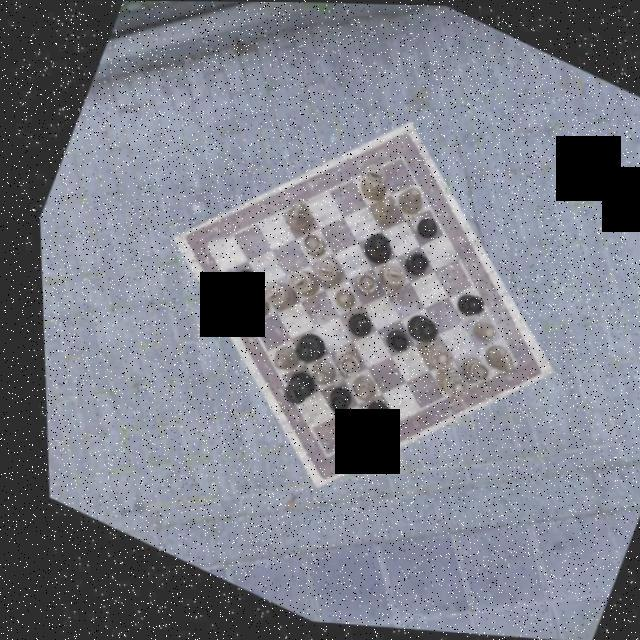chess-table-corners: (374, 144, 414, 182), (182, 235, 220, 272), (488, 348, 526, 383), (305, 442, 334, 470)
